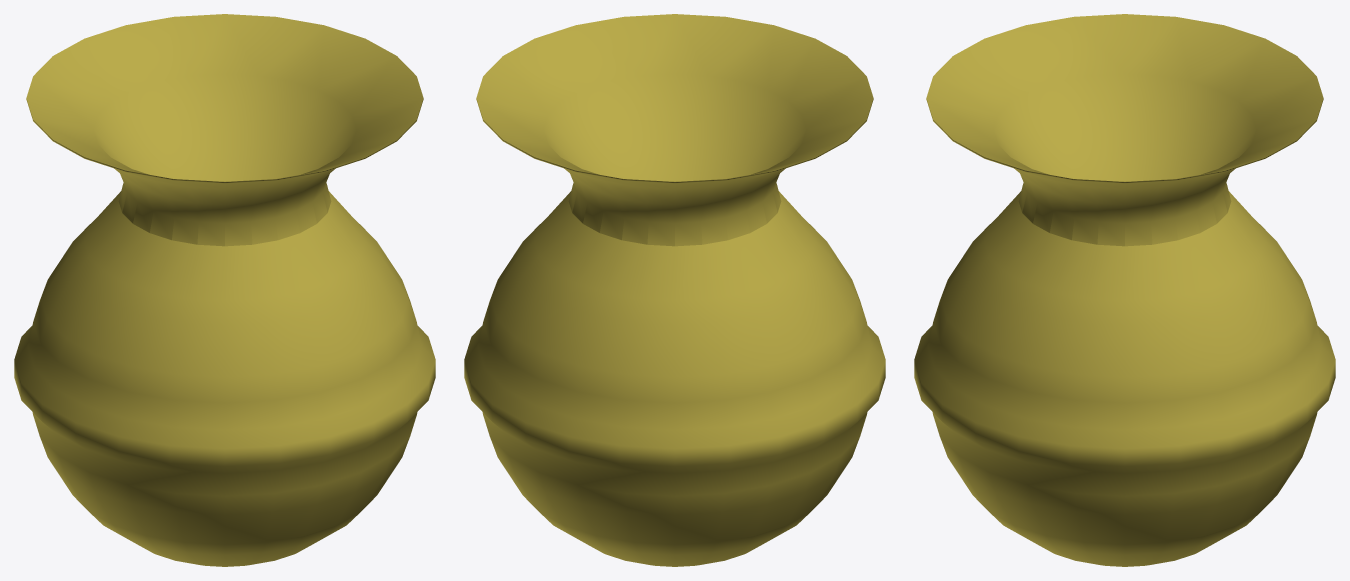
Rendered from Cuspidor.fbx.
3 renders of one model, left to right at view 1: azimuth 30°, elevation 25°; view 2: azimuth 150°, elevation 25°; view 3: azimuth 270°, elevation 25°, orthographic.
Visible parts, largest first — view 1: Cuspidor; view 2: Cuspidor; view 3: Cuspidor.
Boxes of the visible parts, x1=… form: Cuspidor: x1=14, y1=14, x2=435, y2=566; Cuspidor: x1=464, y1=14, x2=885, y2=566; Cuspidor: x1=914, y1=14, x2=1335, y2=566.
Size of the model in its own units: 0.2122 by 0.2427 by 0.2122.
Materials: 1 (1 with a texture image).
